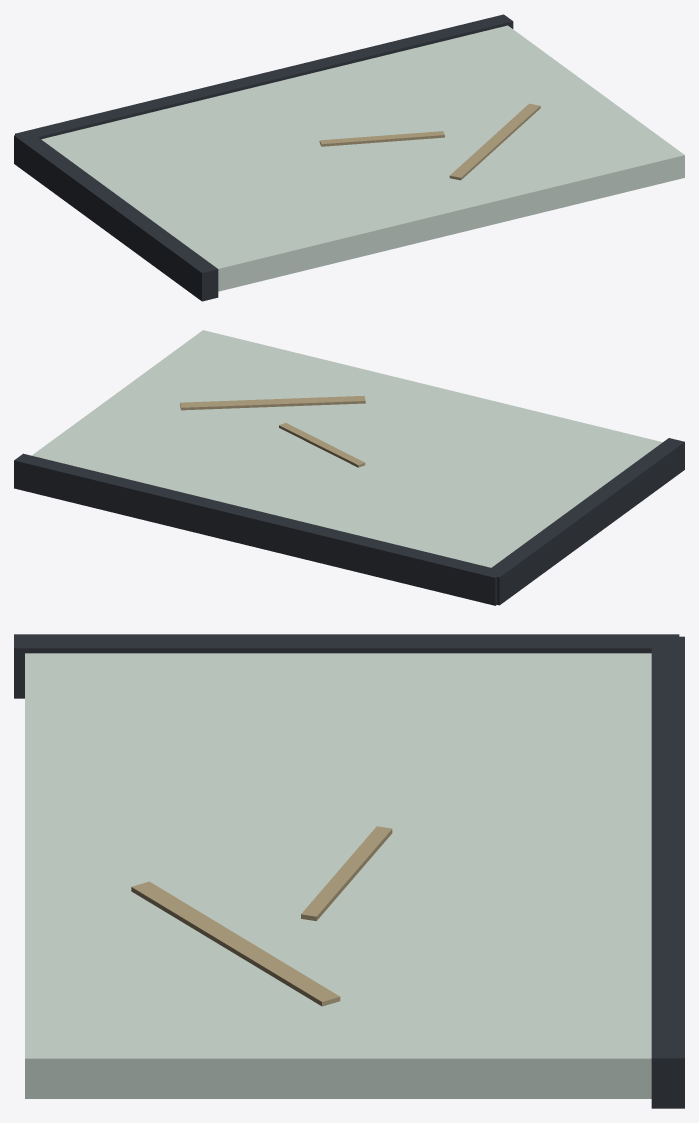
Rendered from prop_debris_panel.glb.
The picture shows the model from 3 angles, top to bottom: view 1: azimuth 30°, elevation 25°; view 2: azimuth 150°, elevation 25°; view 3: azimuth 270°, elevation 25°; orthographic projection. The views are drawn at different scales.
Parts seen in each view (by area): view 1: prop_debris_panel; view 2: prop_debris_panel; view 3: prop_debris_panel.
Part boxes in pixels (x1,y1,x2,y2): prop_debris_panel: (14,14,684,301); prop_debris_panel: (14,330,684,605); prop_debris_panel: (14,634,684,1108).
Size of the model in its own units: 0.905 by 0.05 by 0.605.
1 material, 1 textured.
